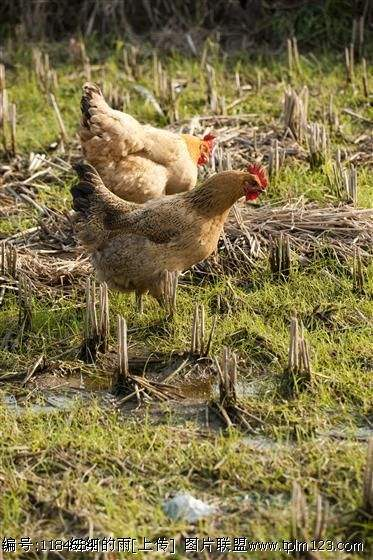chicken: (65, 158, 273, 317), (69, 72, 221, 206)
